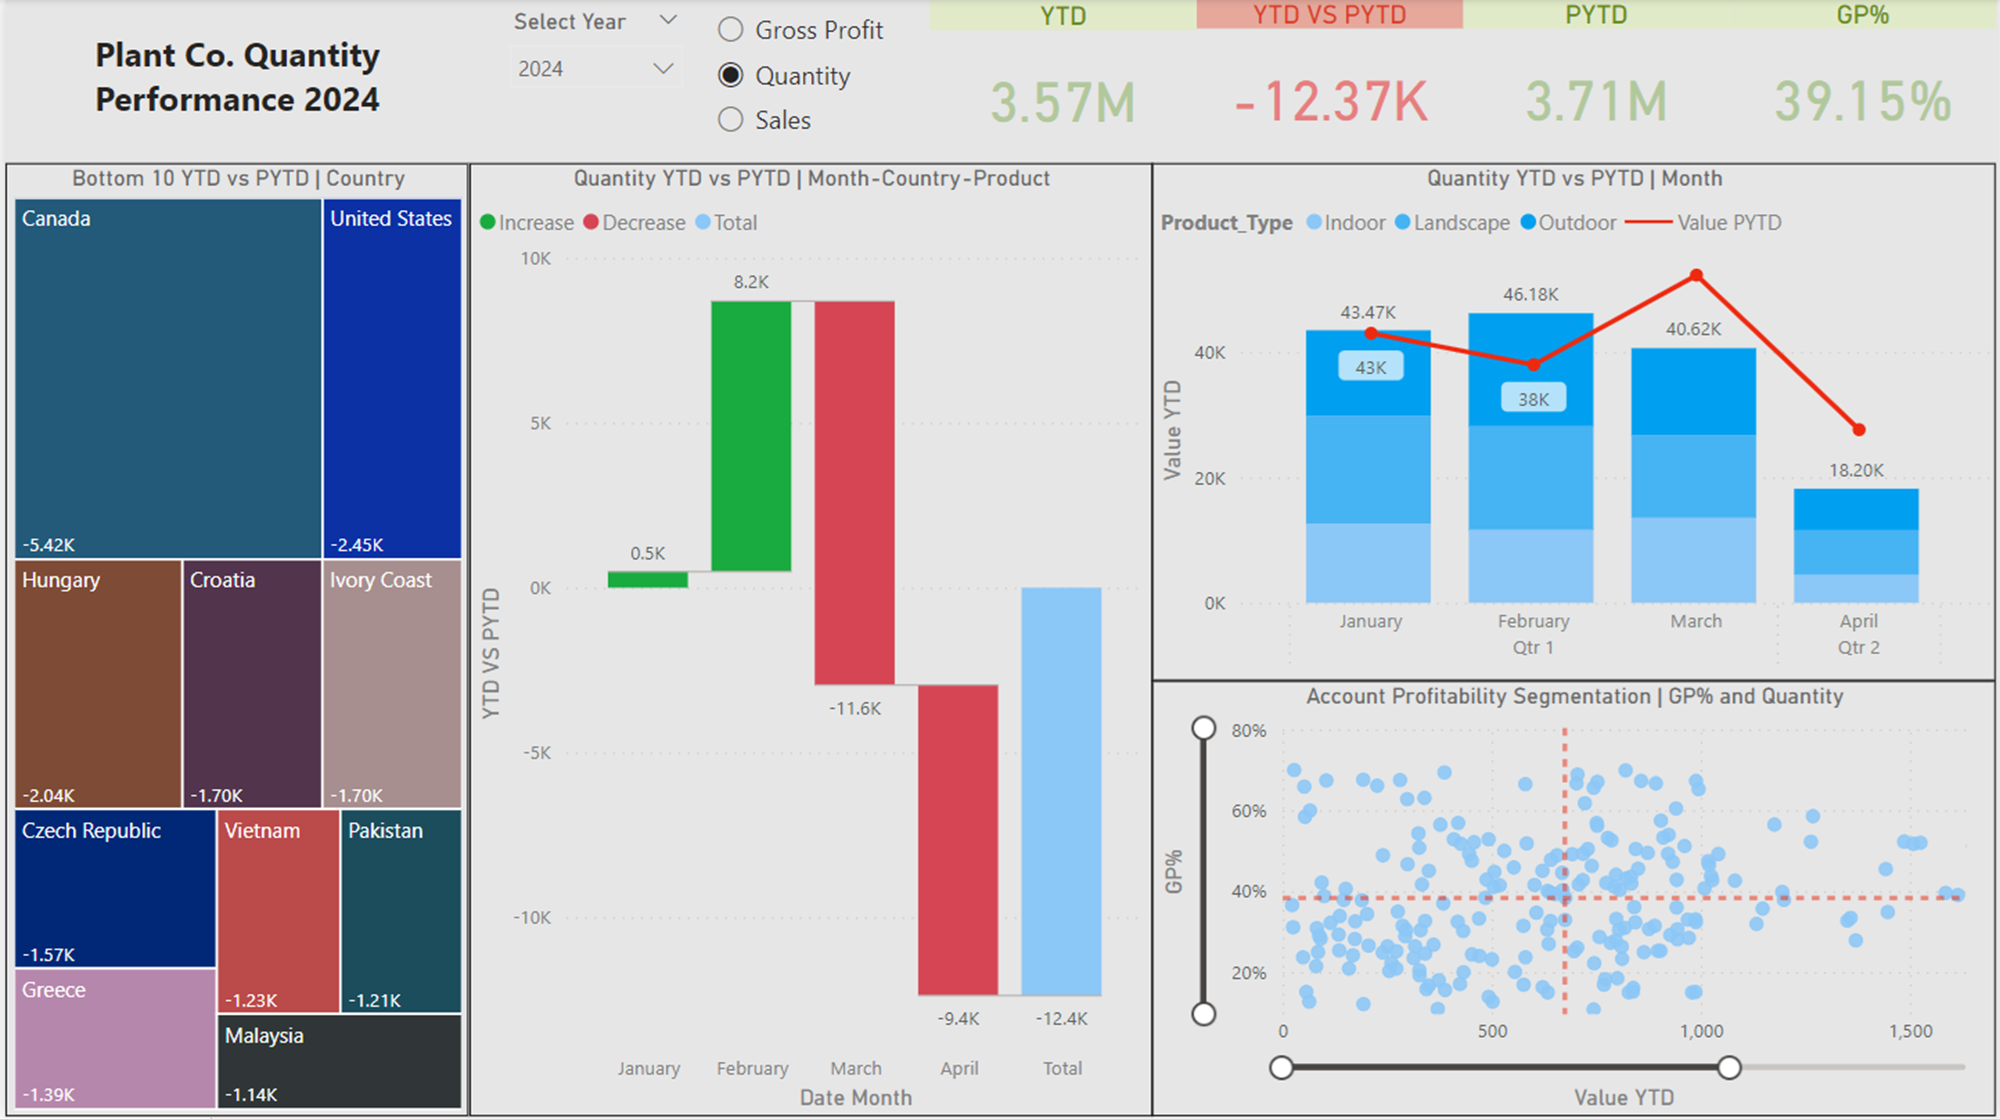

What the dashboard file says about the page in this screenshot:
{"tool":"powerbi","page":{"name":"Plant Co. Performance Report","canvas":[1280,720],"ordinal":0},"visuals":[{"type":"card","title":"YTD","fields":{"Values":["_Measures.YTD_Sales"]},"box":[594.6,1.2,171.3,104.9],"z":0},{"type":"card","title":"PYTD","fields":{"Values":["_Measures.PYTD_Sales"]},"box":[937.1,0,171.3,106.1],"z":1000},{"type":"card","title":"YTD VS PYTD","fields":{"Values":["_Measures.YTD VS PYTD"]},"box":[765.8,0,171.3,106.1],"z":2000},{"type":"slicer","fields":{"Values":["Slc_Values.Values"]},"box":[445,0,149.5,106.1],"z":4000},{"type":"slicer","fields":{"Values":["Dim_Date.Date.Variation.Date Hierarchy.Year"]},"box":[313.6,1.2,131.5,74.8],"z":5000},{"type":"treemap","title":"Bottom 10 YTD vs PYTD | Country","fields":{"Group":["Dim_Account.country"],"Values":["_Measures.YTD VS PYTD"]},"box":[0,106.1,297.9,612.7],"z":6000},{"type":"waterfallChart","fields":{"Y":["_Measures.YTD VS PYTD"],"Category":["Dim_Date.Date.Variation.Date Hierarchy.Month","Dim_Account.country","Dim_Product.Product_Type","Dim_Product.Product_Name"]},"box":[297.9,106.1,439,612.7],"z":7000},{"type":"lineStackedColumnComboChart","fields":{"Y":["_Measures.S_YTD"],"Category":["Dim_Date.Date.Variation.Date Hierarchy.Quarter","Dim_Date.Date.Variation.Date Hierarchy.Month"],"Y2":["_Measures.S_PYTD"],"Series":["Dim_Product.Product_Type"]},"box":[736.9,106.1,542.7,332.9],"z":8000},{"type":"card","title":"GP%","fields":{"Values":["_Measures.GP%"]},"box":[1108.3,0,171.3,106.1],"z":8001},{"type":"scatterChart","fields":{"Y":["_Measures.GP%"],"X":["_Measures.S_YTD"],"Category":["Dim_Account.Account"]},"box":[736.9,439,542.7,279.8],"z":8002},{"type":"clusteredColumnChart","box":[0,20.5,297.9,66.3],"z":8003}]}

Visuals, with their boxes in screenshot pixels (x1, y1, x2, y2), scaled from the page's 1280x720 canvas onto the 2000x1119 screenshot:
"YTD" card: 929,2,1197,165
"PYTD" card: 1464,0,1732,165
"YTD VS PYTD" card: 1197,0,1464,165
slicer - Slc_Values.Values: 695,0,929,165
slicer - Dim_Date.Date.Variation.Date Hierarchy.Year: 490,2,695,118
"Bottom 10 YTD vs PYTD | Country" treemap: 0,165,465,1117
waterfallChart - _Measures.YTD VS PYTD x Dim_Date.Date.Variation.Date Hierarchy.Month: 465,165,1151,1117
lineStackedColumnComboChart - _Measures.S_YTD x Dim_Date.Date.Variation.Date Hierarchy.Quarter: 1151,165,1999,682
"GP%" card: 1732,0,1999,165
scatterChart - _Measures.GP% x _Measures.S_YTD: 1151,682,1999,1117
clusteredColumnChart: 0,32,465,135
